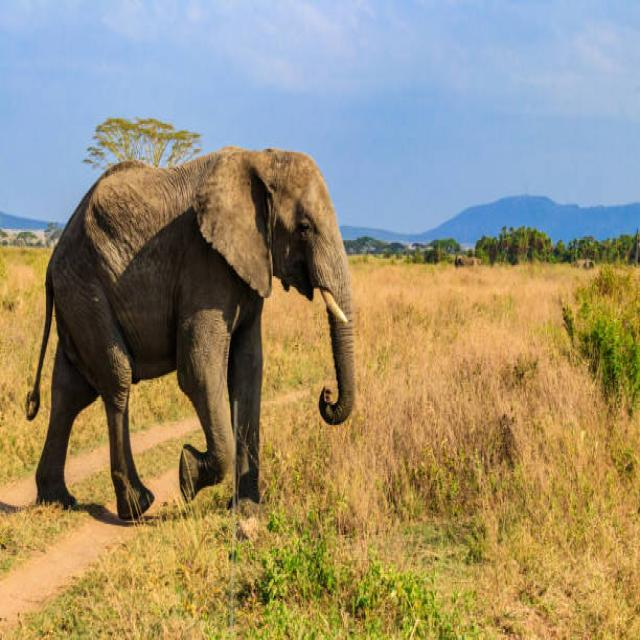Elephant: (1, 140, 382, 544)
